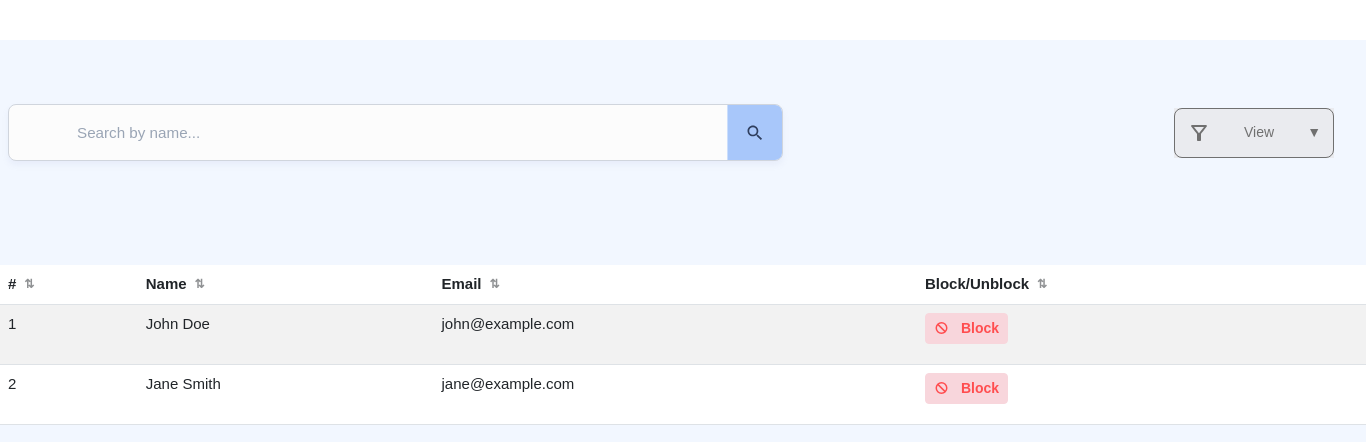
BlockUser Component › Search Functionality › searches members by name
Expected: the text "John Doe" is shown, [138, 304, 434, 364]
Type "John" into the search field with test id "searchByName" at (360, 132), box [29, 124, 691, 141]
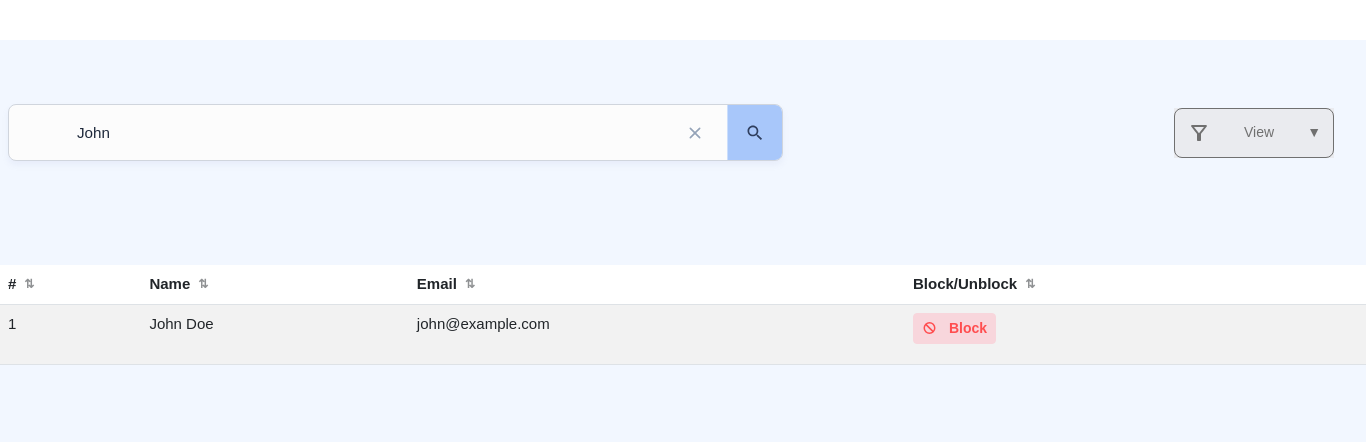
Expected: the text "John Doe" is shown, [141, 304, 409, 364]
Expected: the text "Jane Smith" is gone
